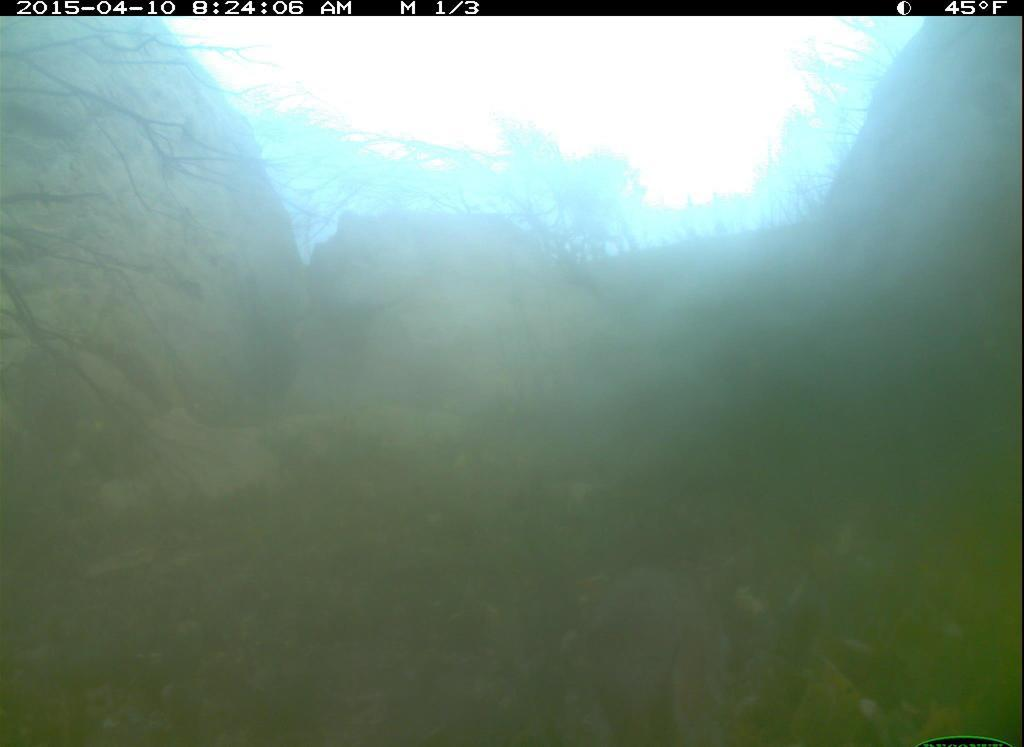rabbit: (534, 538, 745, 733)
